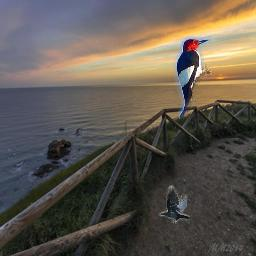Crow: (159, 185, 190, 223)
Woodpecker: (169, 33, 213, 119)
